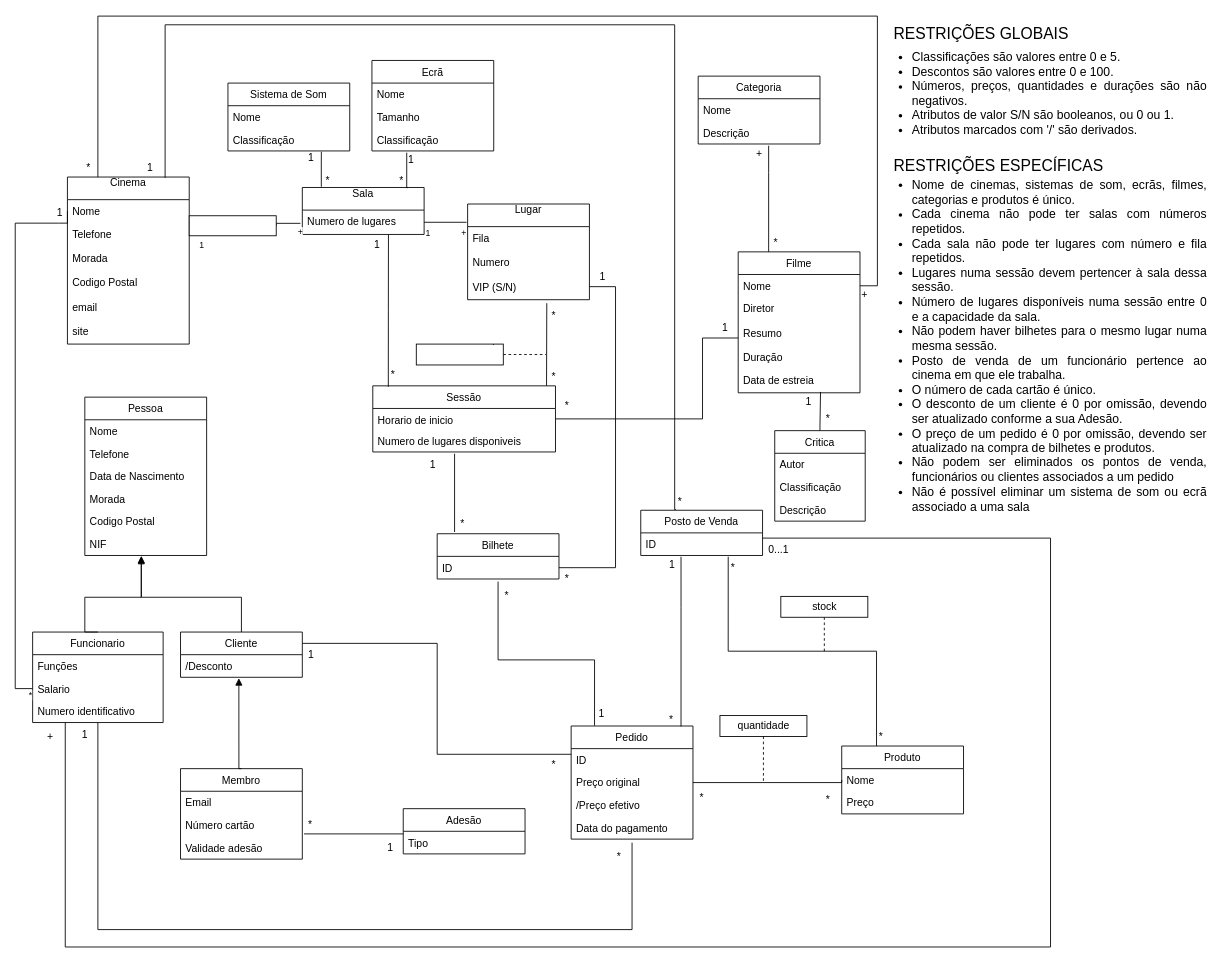
The diagram is 1222 pixels wide and 963 high, and some of its shapes have lost their labels. Here are the shapes that lost their labels. From the top down, the centre of each, then its label:
point (232, 225): numero da sala
point (459, 354): /ocupado (S/N)
